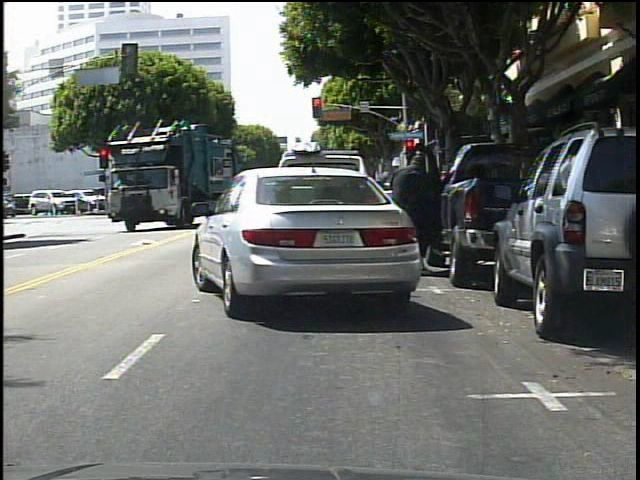person: (389, 148, 446, 283)
